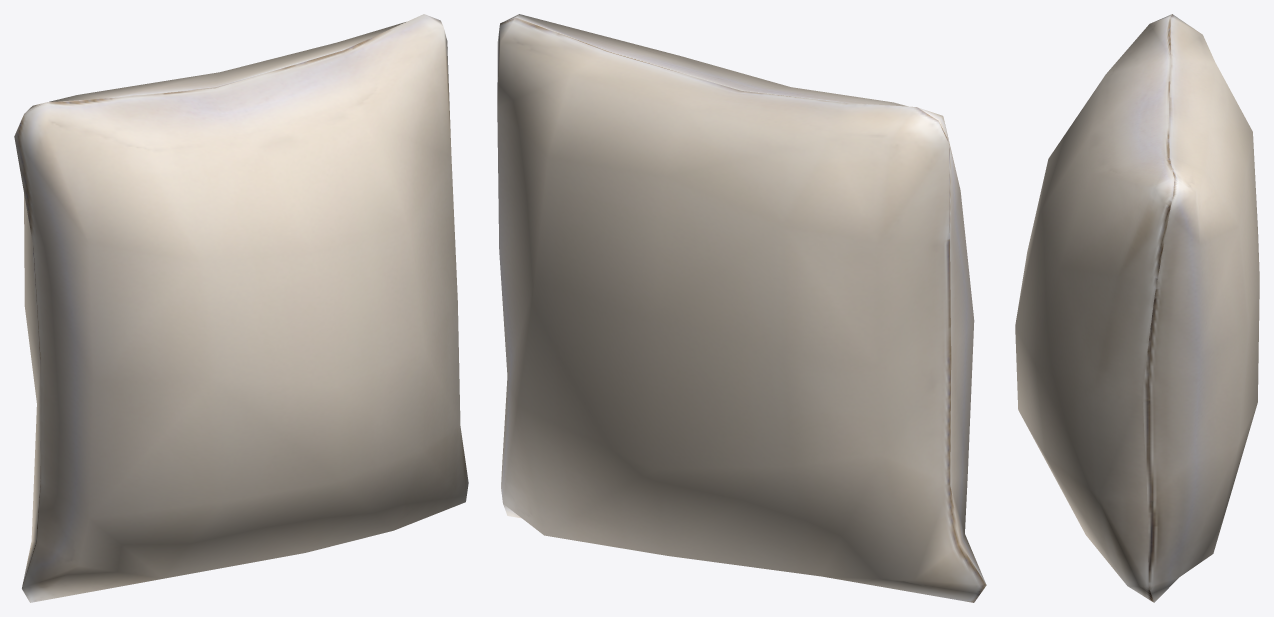
File: PillowA.FBX
The picture shows the model from 3 angles, left to right: view 1: azimuth 30°, elevation 25°; view 2: azimuth 150°, elevation 25°; view 3: azimuth 270°, elevation 25°; orthographic projection. The views are drawn at different scales.
Visible parts, largest first — view 1: PillowA; view 2: PillowA; view 3: PillowA.
Boxes of the visible parts, left/top/right/bottom form: PillowA: left=14, top=14, right=468, bottom=602; PillowA: left=497, top=14, right=986, bottom=602; PillowA: left=1015, top=14, right=1259, bottom=602.
Size of the model in its own units: 38.51 by 21.09 by 39.98.
